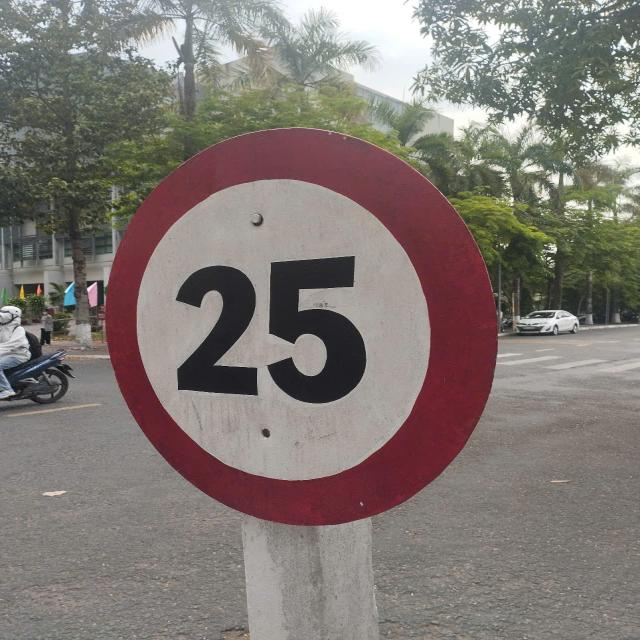Tre_Em: (100, 123, 498, 529)
